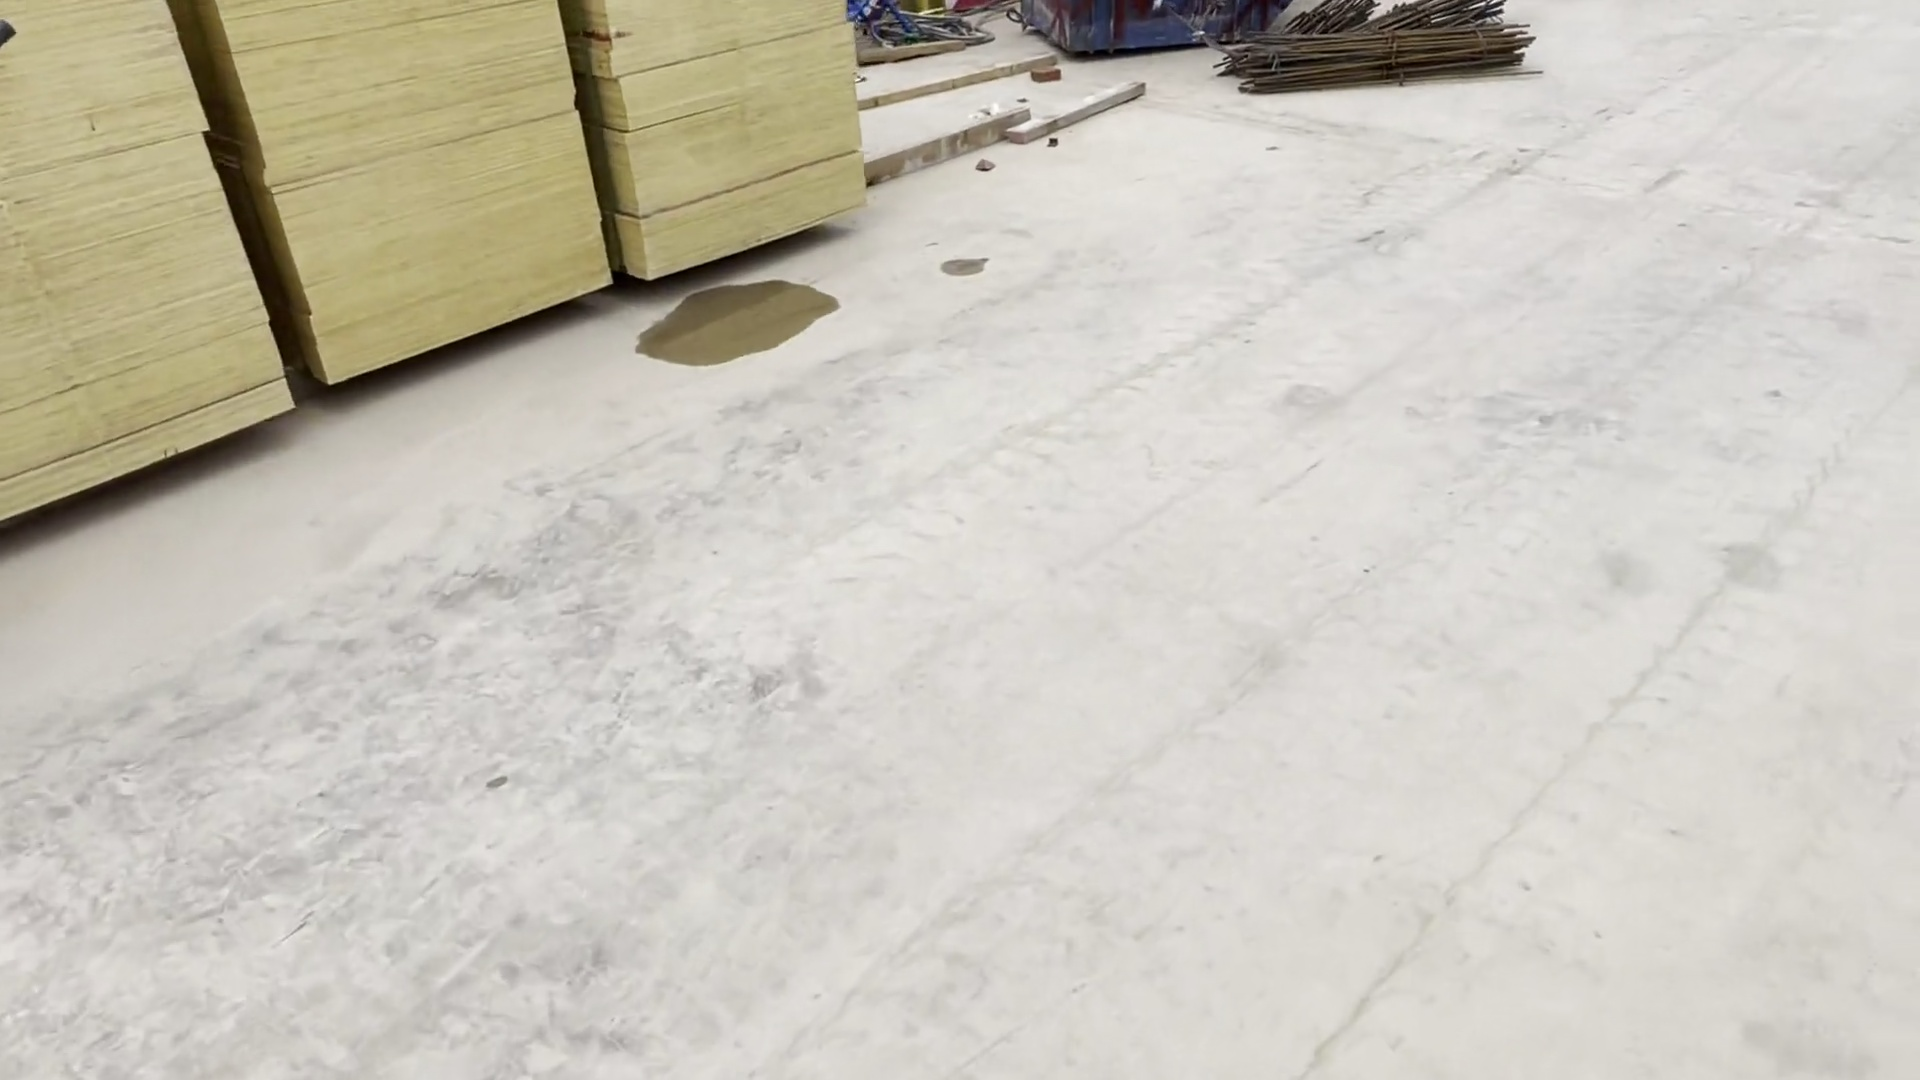hopper: (1026, 1, 1259, 59)
